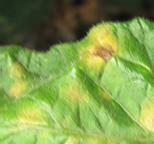Tomato mold leaf: (0, 4, 154, 144)
